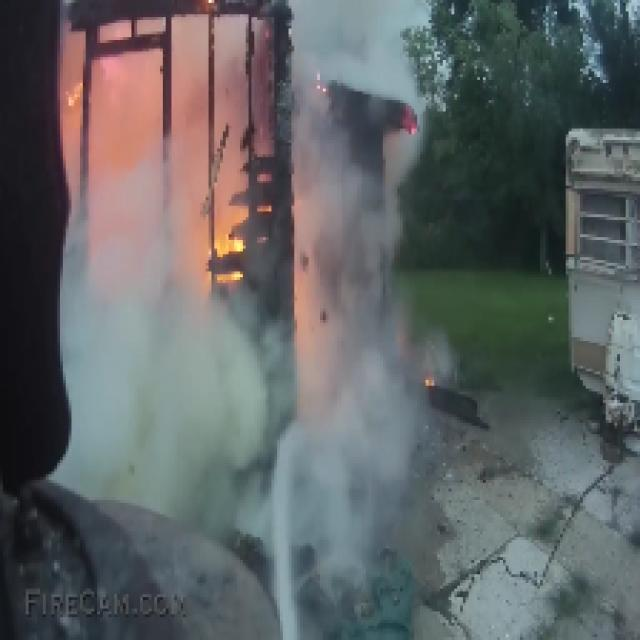Fire: (192, 208, 258, 292), (59, 77, 92, 114)
Smoke: (74, 160, 440, 594)
